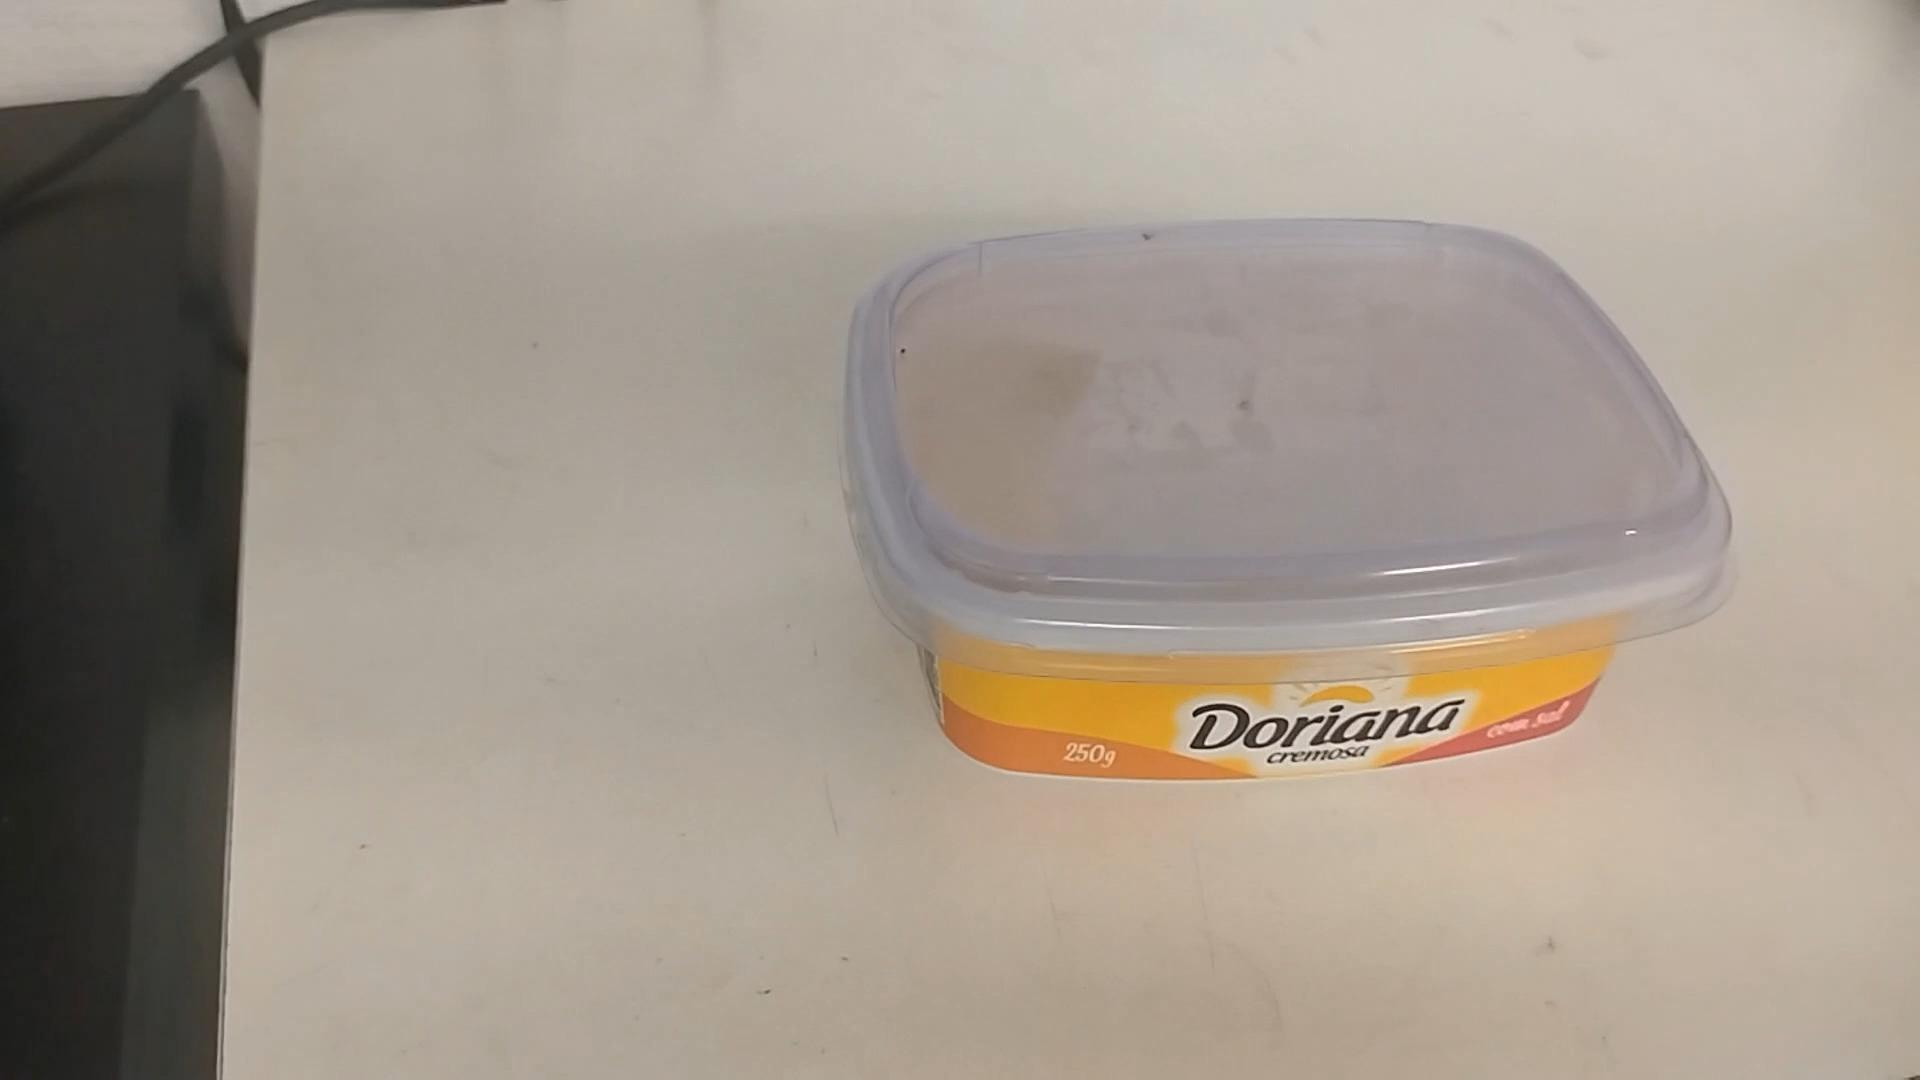butter: (848, 228, 1739, 785)
